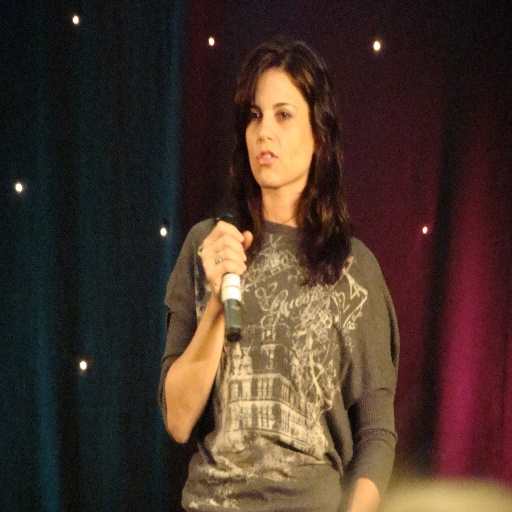hand: (198, 224, 246, 299)
